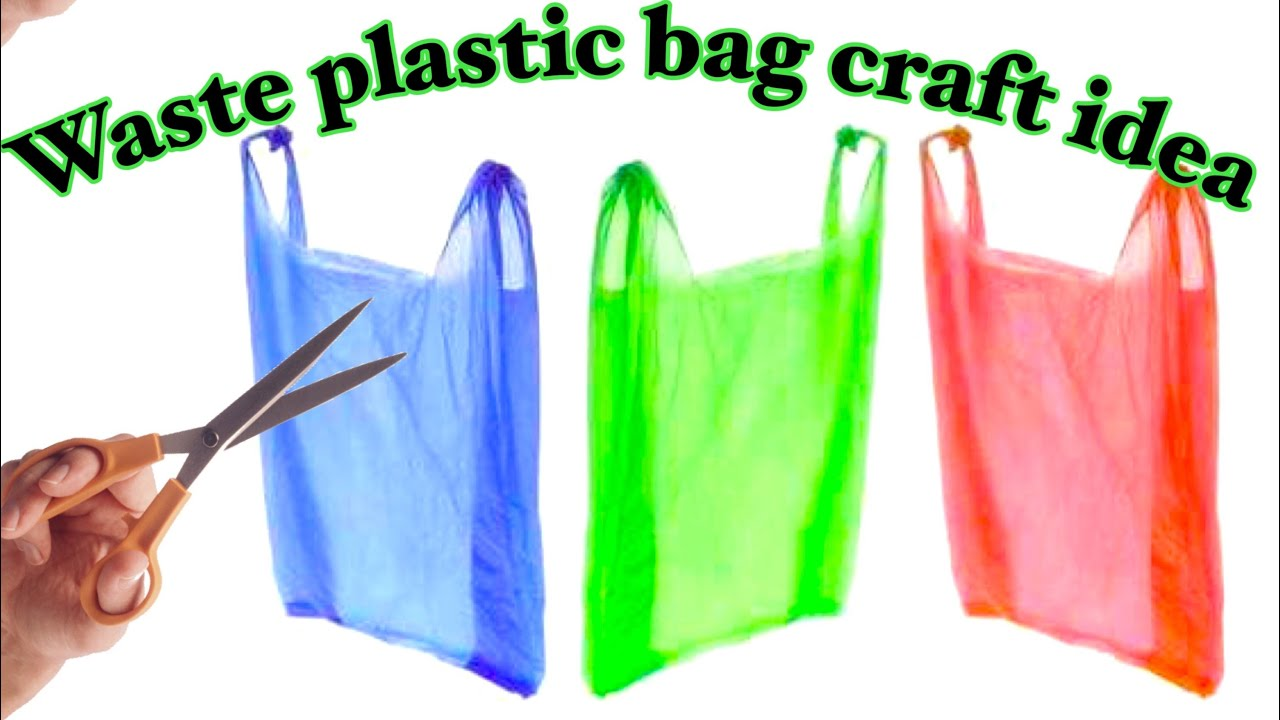plastic_bagwdw: (822, 55, 1273, 720), (162, 62, 583, 714), (547, 40, 909, 720)
